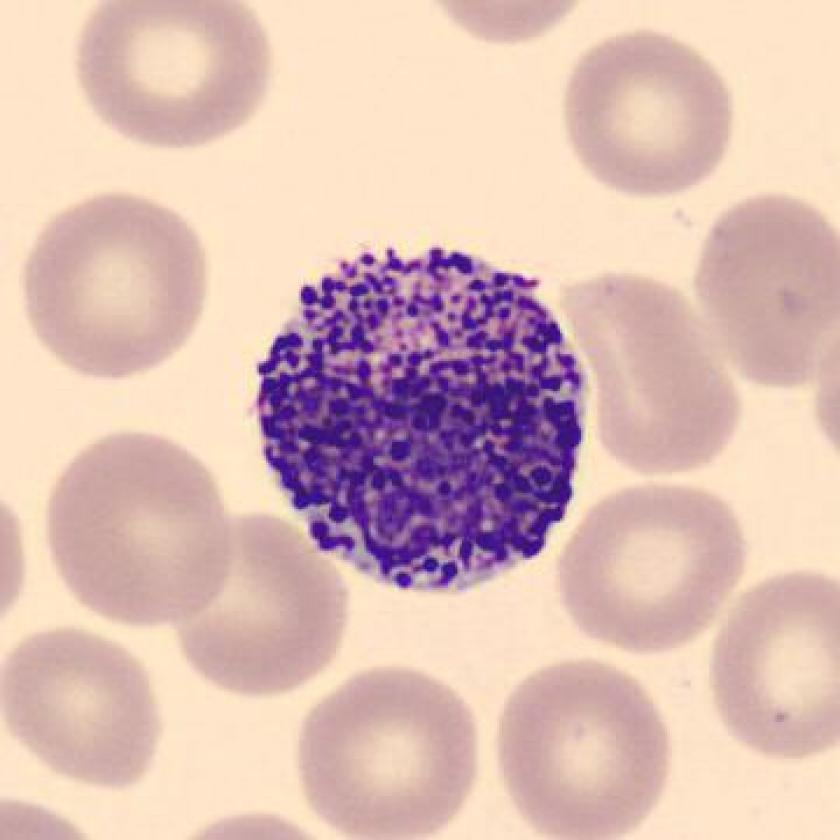basophil: (246, 233, 591, 603)
